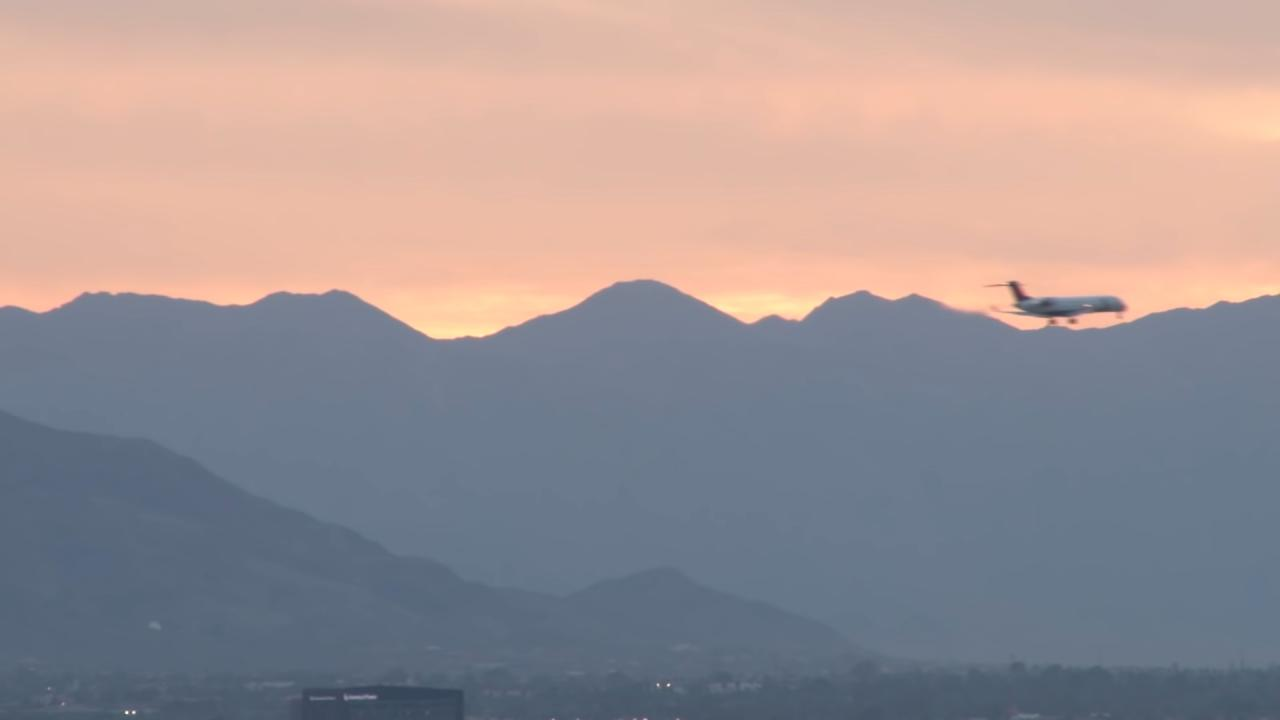Airplane: (978, 270, 1141, 338)
